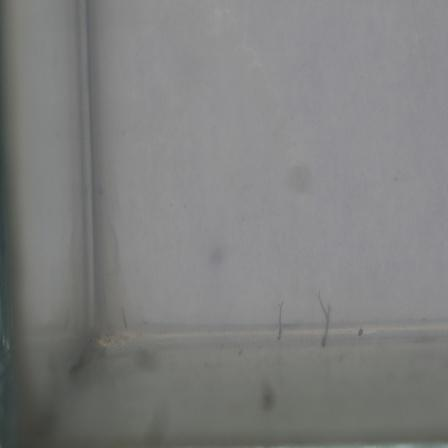Jentik-Nyamuk: (313, 291, 337, 352), (271, 298, 289, 345)
